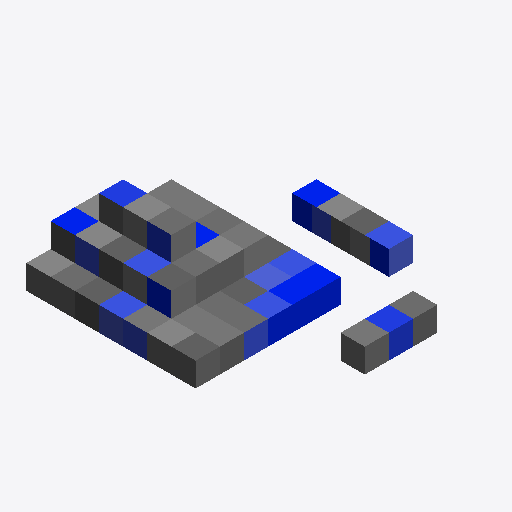
A Minecraft block model of 5 cuboids, rendered isometrically (azimuth 45°, elevation 35.3°) with the resource pack's own textures.
Visible parts, largest first — element 1, element 2, element 4, element 3, element 5.
Boxes of the visible parts, <box> form: element 1: <box>26,179,340,387</box>; element 2: <box>51,193,243,318</box>; element 4: <box>292,179,412,276</box>; element 3: <box>99,180,195,262</box>; element 5: <box>341,291,436,373</box>.
Bounding box in the file's own units: 9 × 3 × 10.